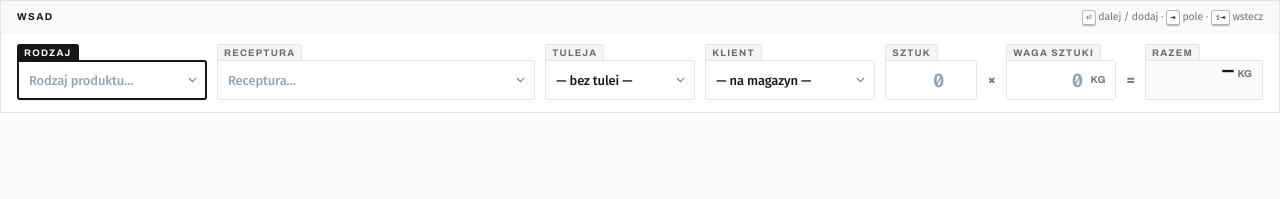
Scenario: PlanTerminal › receptury zawężają się do wybranego rodzaju
This screenshot has width=1280, height=199.
In the field labelled "Rodzaj": (112, 80) [17, 60, 207, 100], type "wołowy"
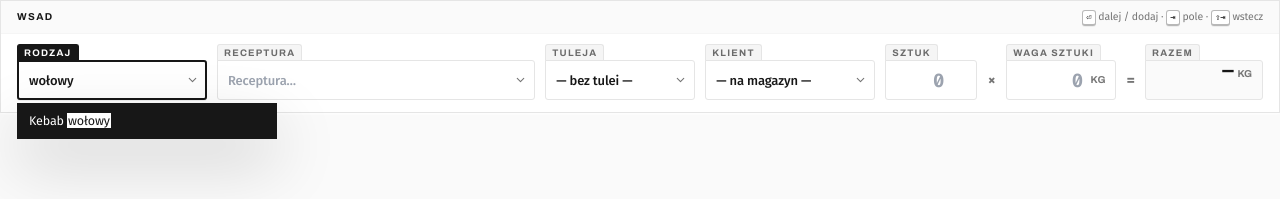
Press Enter in the field named "Rodzaj", box [17, 60, 207, 100]
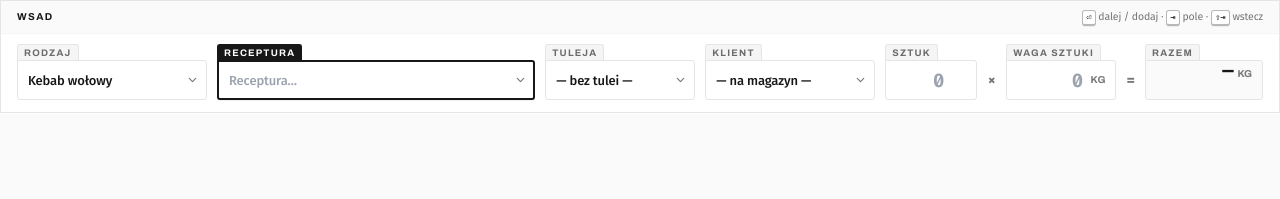
Press ArrowDown in the field labelled "Receptura", box [217, 60, 535, 100]
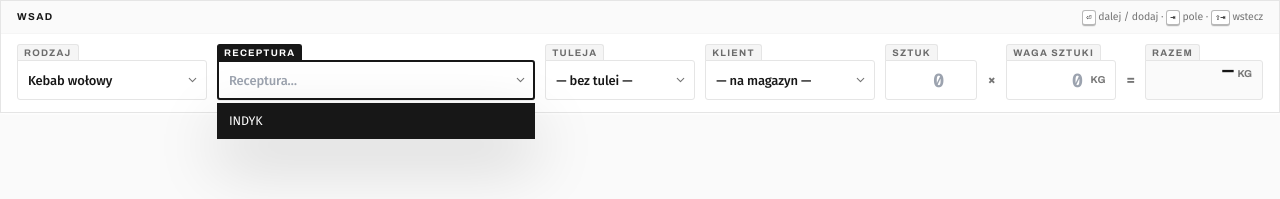
Now the text "INDYK" is shown, box [229, 113, 262, 128]
